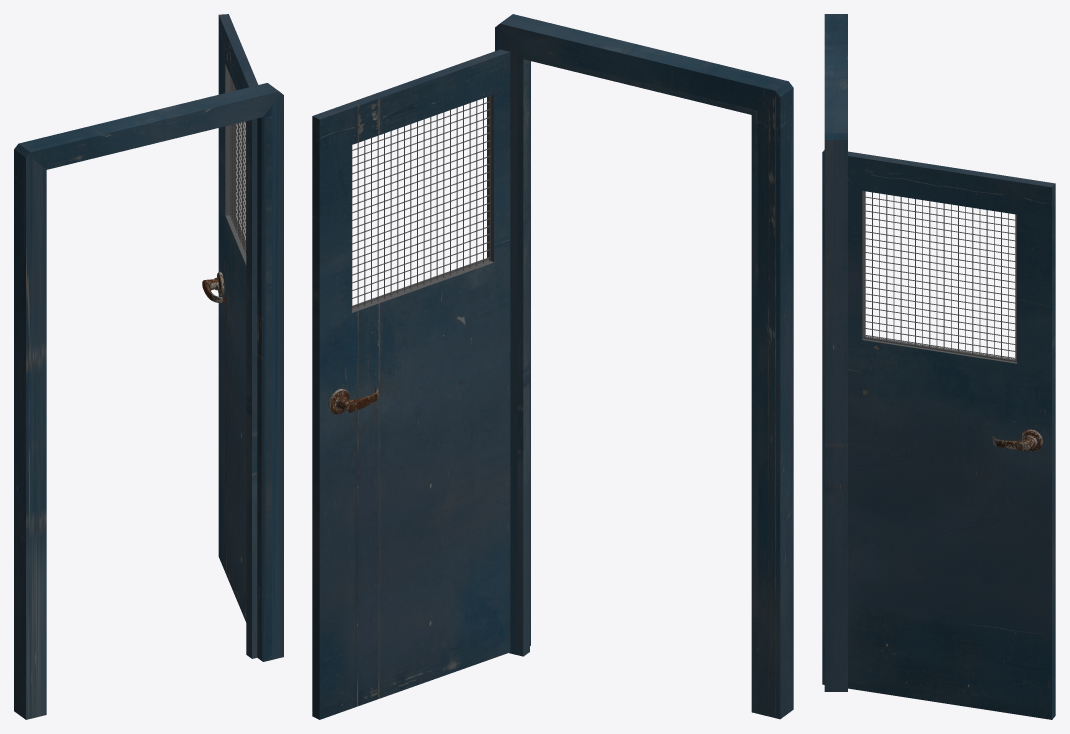
The model's file is blue_metal_door.glb.
The picture shows the model from 3 angles, left to right: view 1: azimuth 30°, elevation 25°; view 2: azimuth 150°, elevation 25°; view 3: azimuth 270°, elevation 25°; orthographic projection. The views are drawn at different scales.
Parts seen in each view (by area): view 1: DoorFrame, Door; view 2: Door, DoorFrame; view 3: Door, DoorFrame.
Boxes of the visible parts, x1=… form: DoorFrame: x1=14, y1=83, x2=283, y2=719; Door: x1=202, y1=14, x2=271, y2=660; Door: x1=312, y1=49, x2=530, y2=719; DoorFrame: x1=495, y1=14, x2=793, y2=719; Door: x1=822, y1=150, x2=1055, y2=719; DoorFrame: x1=824, y1=14, x2=847, y2=691.
Size of the model in its own units: 2.19 by 3.6 by 1.37.
3 materials, 2 textured.
